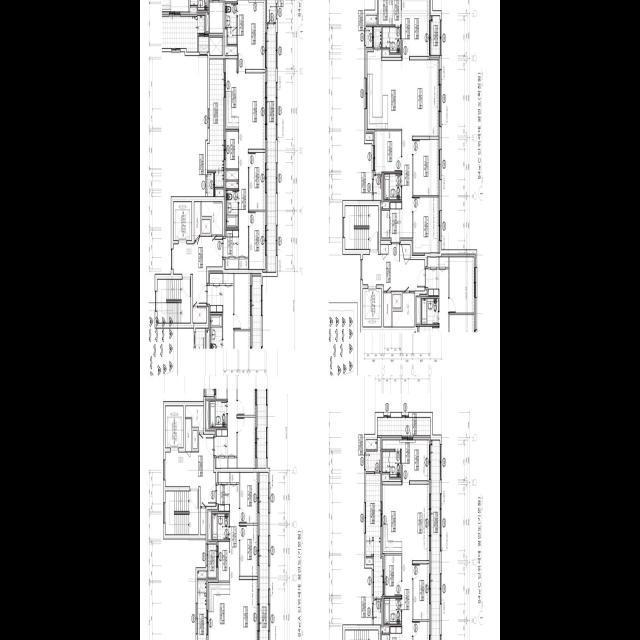background: (140, 0, 500, 640)
space_balconi: (267, 23, 276, 271), (366, 473, 382, 598), (207, 59, 224, 170), (431, 440, 440, 640), (260, 472, 268, 640), (378, 417, 430, 435), (198, 580, 206, 640), (431, 15, 440, 54), (208, 544, 216, 577)
space_bedroom: (382, 440, 429, 480), (238, 0, 265, 69), (402, 0, 429, 56), (413, 196, 439, 252), (413, 139, 439, 195), (375, 131, 401, 171), (249, 152, 265, 209), (249, 211, 265, 268), (240, 525, 258, 575), (413, 564, 429, 619), (240, 472, 257, 522), (384, 555, 401, 596), (413, 621, 429, 640)
space_dressroom: (379, 0, 401, 24)
space_elevator: (165, 406, 183, 447), (174, 201, 192, 240), (363, 288, 381, 326)
space_elevator_hall: (165, 434, 216, 506), (174, 236, 222, 306), (363, 244, 425, 290)
space_front: (217, 472, 230, 511), (390, 201, 402, 242), (223, 229, 239, 256), (390, 626, 402, 640)
space_kitchen: (367, 48, 402, 128), (382, 484, 402, 553), (208, 584, 230, 640), (226, 58, 239, 128)
space_living_room: (402, 60, 439, 237), (239, 73, 265, 256), (230, 472, 258, 640), (402, 483, 429, 640)
space_other: (393, 293, 414, 326), (202, 201, 222, 234), (226, 131, 238, 168), (186, 406, 204, 430), (218, 541, 229, 580), (225, 29, 237, 54), (194, 201, 200, 241), (384, 293, 391, 326), (185, 418, 191, 451), (193, 307, 206, 322), (267, 0, 276, 21), (382, 210, 389, 237), (374, 600, 381, 624), (374, 175, 381, 199), (374, 26, 381, 46), (215, 170, 223, 187), (382, 49, 401, 56), (382, 474, 401, 481), (201, 508, 206, 534), (402, 244, 410, 258), (226, 170, 238, 179), (226, 259, 238, 268), (202, 219, 210, 232), (393, 294, 401, 307), (366, 439, 376, 449), (226, 181, 238, 188), (208, 511, 211, 539), (239, 259, 248, 268), (366, 15, 377, 22), (193, 430, 197, 448), (381, 244, 388, 253), (216, 189, 224, 196), (381, 201, 389, 208), (198, 571, 207, 577), (366, 558, 373, 564), (382, 626, 389, 632), (366, 133, 373, 139), (382, 635, 389, 640)
space_outdoor_room: (366, 437, 380, 471), (207, 173, 213, 196), (366, 26, 372, 46)
space_staircase: (157, 278, 190, 322), (165, 490, 198, 534), (345, 206, 378, 249), (345, 630, 378, 640)
space_toilet: (225, 3, 237, 43), (383, 451, 401, 476), (383, 27, 401, 52), (212, 513, 229, 539), (384, 173, 401, 199), (384, 598, 401, 623), (227, 190, 238, 227)
